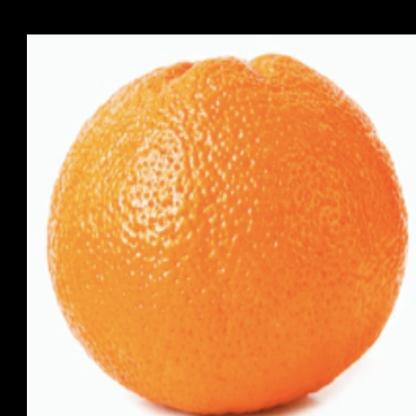fresh: (50, 50, 406, 416)
